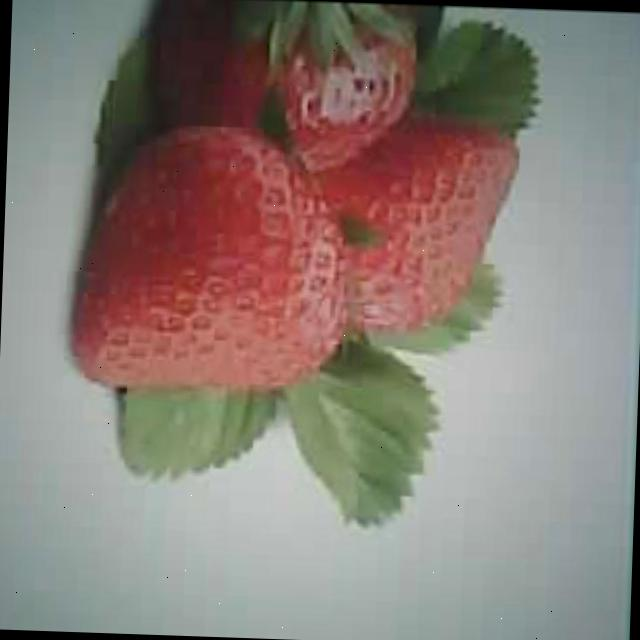strawberry: (75, 121, 348, 392), (315, 113, 518, 334)
